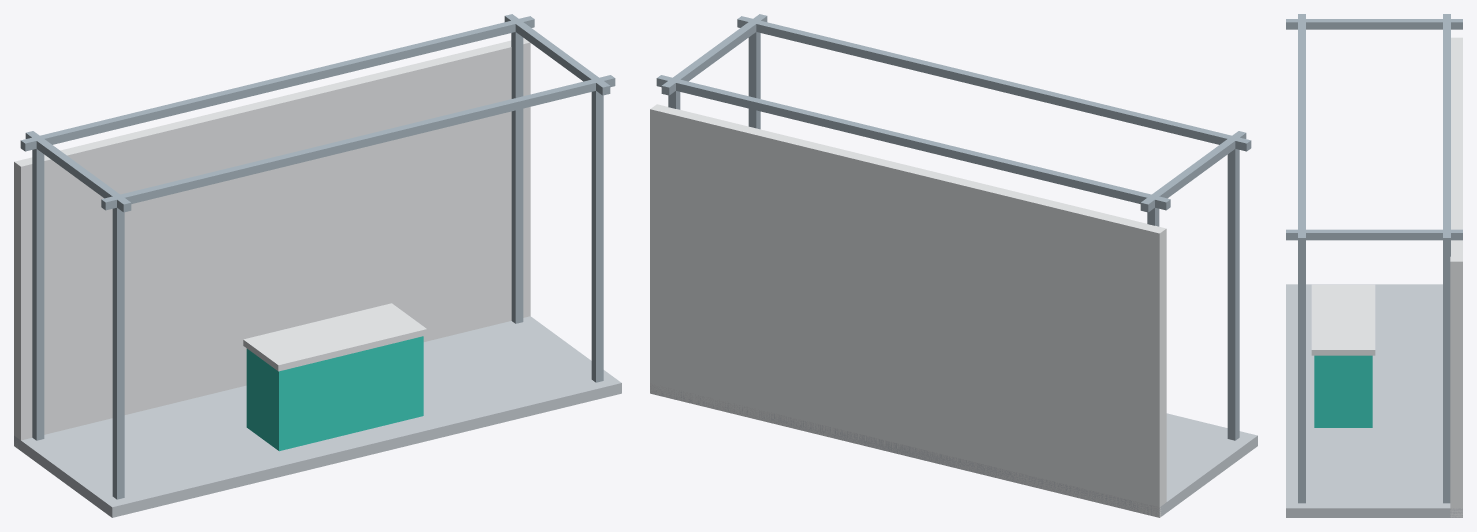
3 renders of one model, left to right at view 1: azimuth 30°, elevation 25°; view 2: azimuth 150°, elevation 25°; view 3: azimuth 270°, elevation 25°, orthographic. The views are drawn at different scales.
Parts seen in each view (by area): view 1: Exhibition Booth Concept; view 2: Exhibition Booth Concept; view 3: Exhibition Booth Concept.
Part boxes in pixels (x1,y1,x2,y2): Exhibition Booth Concept: [14, 14, 621, 517]; Exhibition Booth Concept: [650, 14, 1257, 517]; Exhibition Booth Concept: [1286, 14, 1462, 517].
Size of the model in its own units: 6 by 3.49 by 2.
